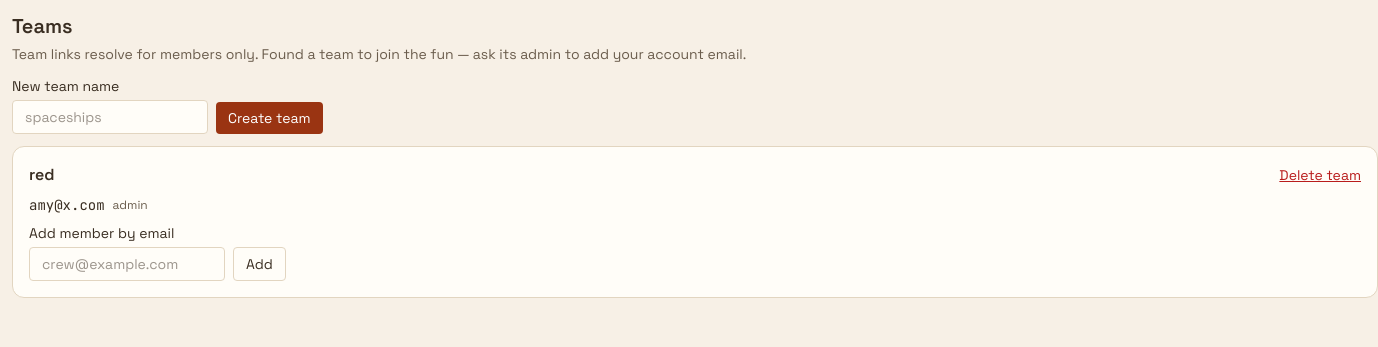
Scenario: TeamsPage › lists teams with members and creates one
Check: the heading "red" is shown, box x1=29 y1=163 x2=54 y2=187
Check: the text "amy@x.com" is shown, box x1=29 y1=195 x2=105 y2=215
Type "blue" into the field labelled "New team name" at point(110, 117), box x1=12 y1=100 x2=208 y2=134
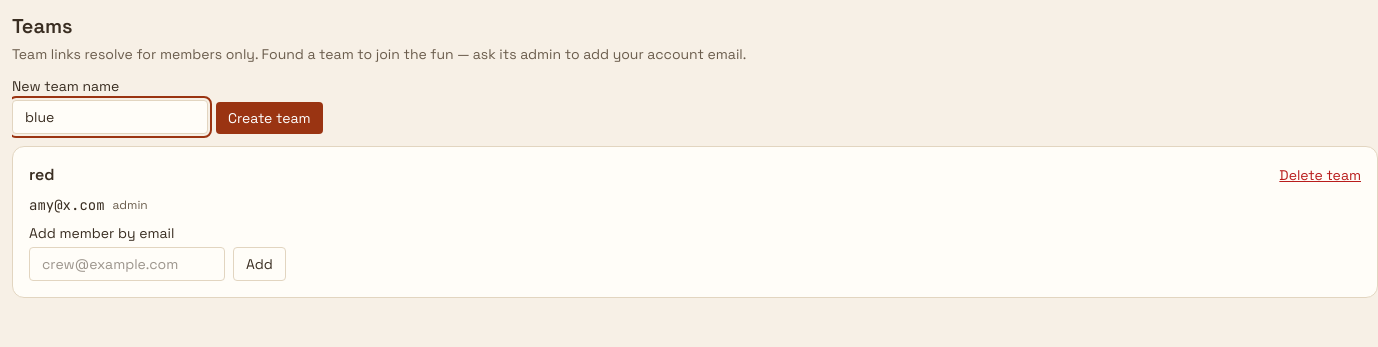
Click the button "Create team" at point(269, 118), box x1=216 y1=102 x2=323 y2=134
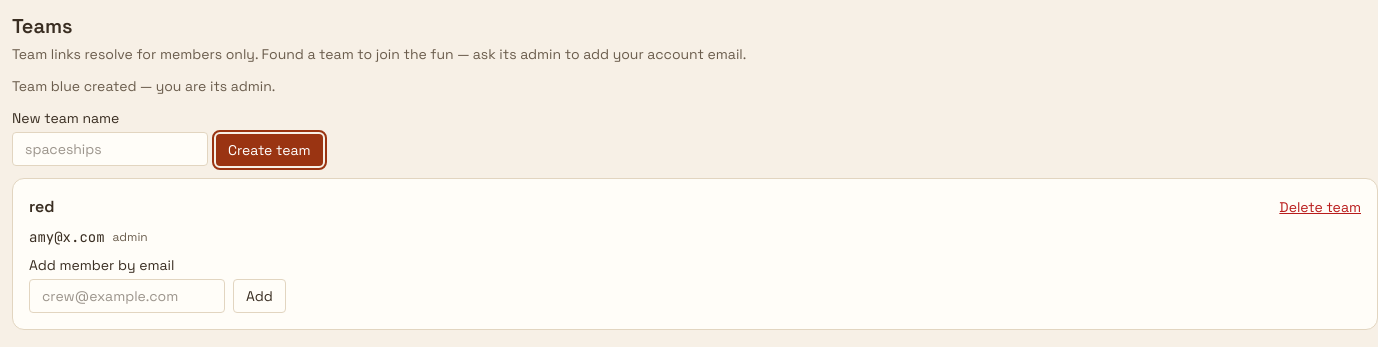
Check: the text "Team blue created — you are its admin." is shown, box x1=12 y1=77 x2=275 y2=95
